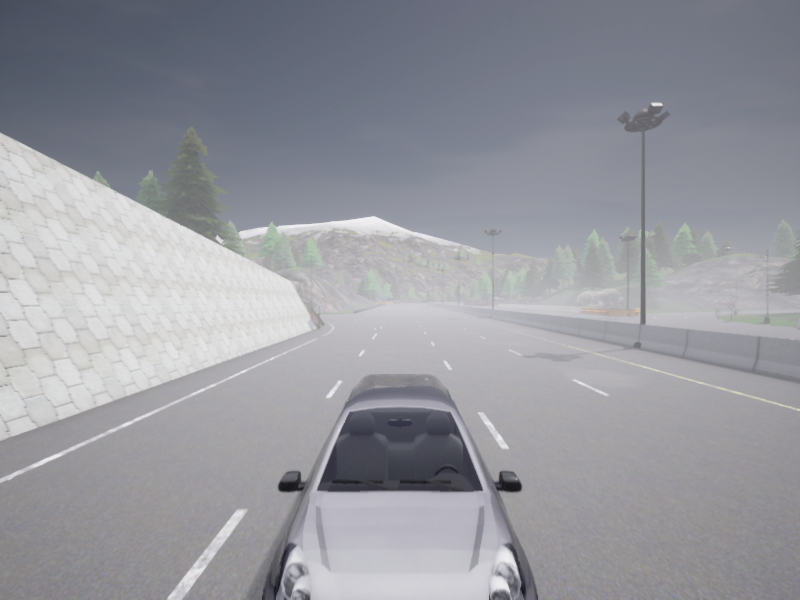vehicle: (262, 374, 537, 599)
